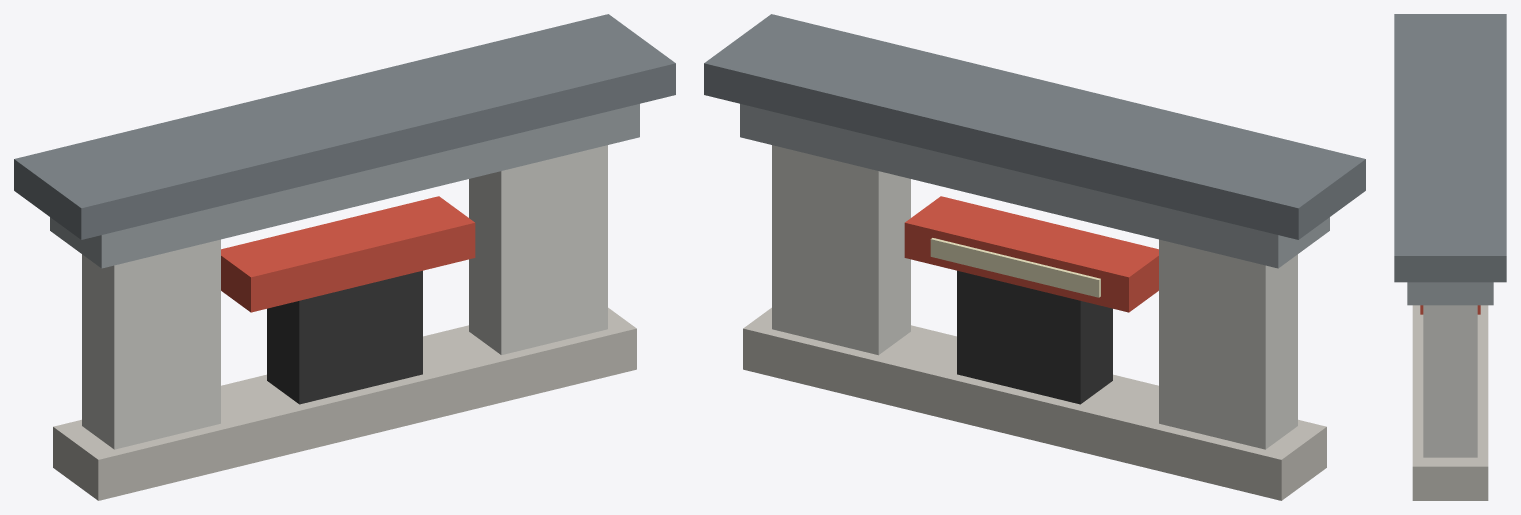
Rendered from voxel-shandong-heritage-gate.gltf.
3 views of the same model, side by side, from view 1: azimuth 30°, elevation 25°; view 2: azimuth 150°, elevation 25°; view 3: azimuth 270°, elevation 25° (orthographic). The views are drawn at different scales.
Size of the model in its own units: 5.3 by 2.62 by 1.04.
